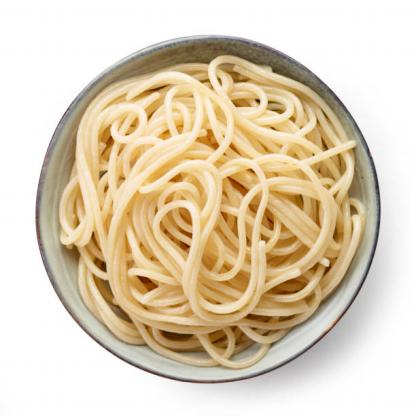Noodles: (58, 56, 365, 370)
